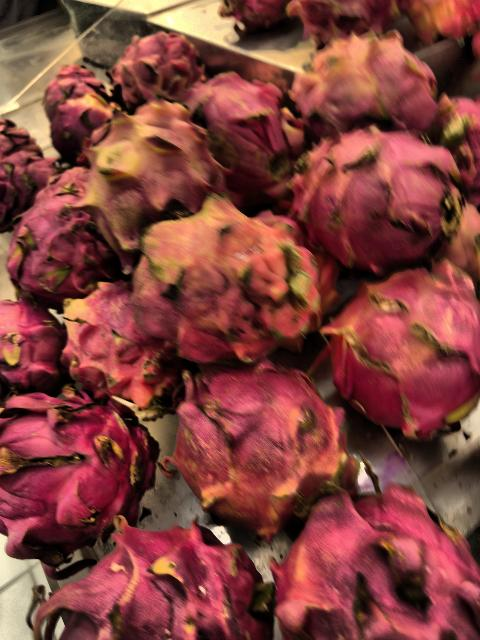buah-naga-belum-matang: (165, 370, 338, 526), (126, 212, 312, 354), (328, 258, 480, 430), (288, 136, 460, 252), (76, 92, 214, 234), (57, 292, 181, 410), (294, 30, 426, 132), (190, 78, 292, 180), (52, 93, 103, 149)
buah-naga-matang: (276, 484, 480, 640), (0, 385, 156, 557), (66, 526, 274, 640), (15, 192, 115, 292), (0, 300, 72, 398), (108, 36, 194, 102), (0, 120, 52, 218), (286, 1, 394, 42), (42, 56, 98, 102)
